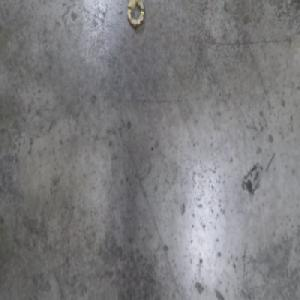Nut: (126, 0, 145, 32)
